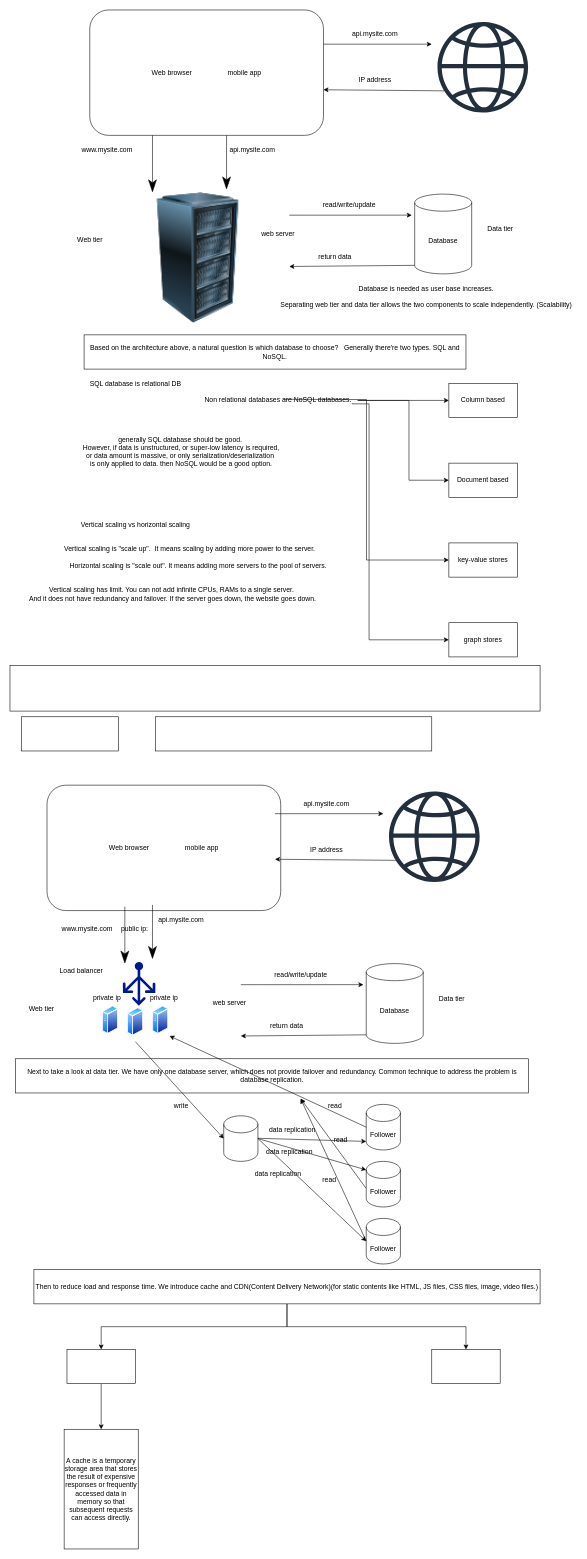
Image size: 587x1559. Some labels were removed from this diagram. Each missing label, with the centre of its shape:
A load balancer distributes the traffic/load among a pool of web servers.: (293,733)
Cache: (100,1366)
CDN: (465,1366)
Leader: (240,1138)
Load balancer is the answer: (69,733)
Scaling web tier: (274,688)
